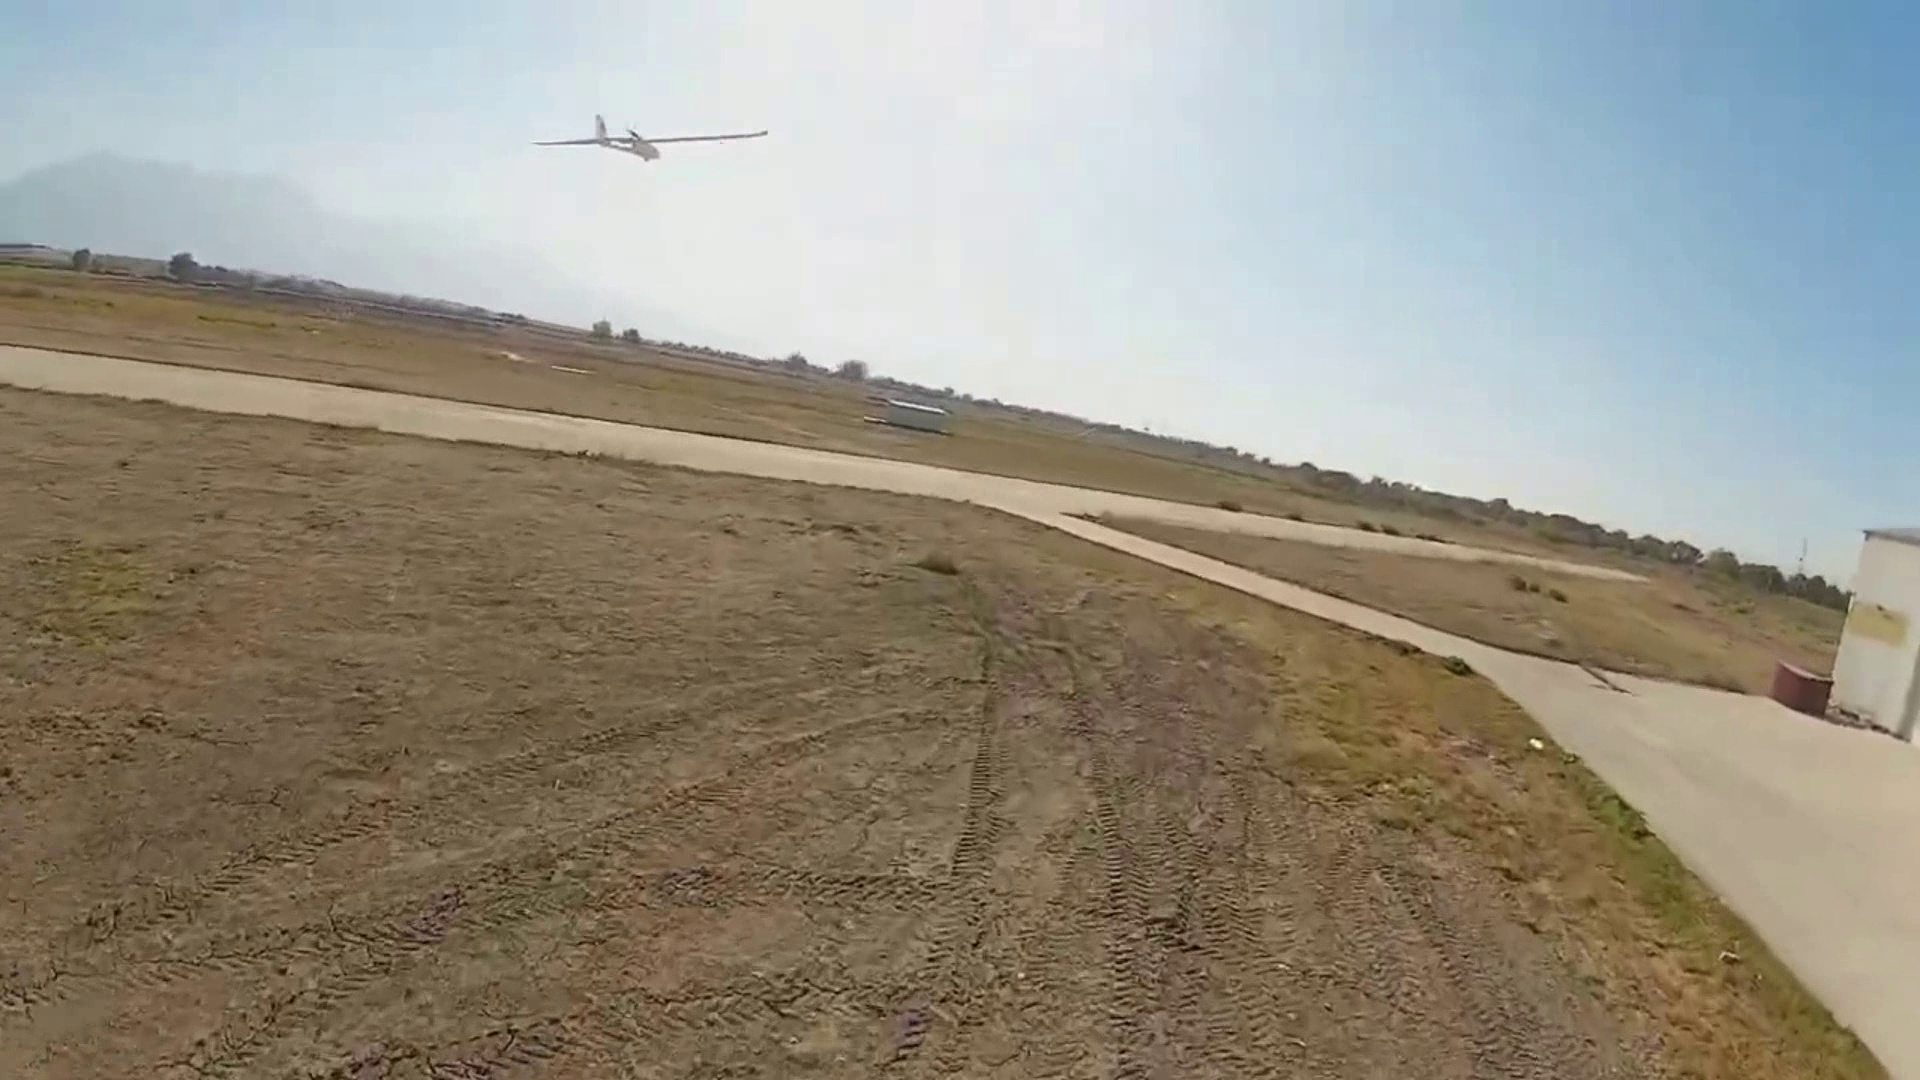airplane: (535, 107, 773, 161)
